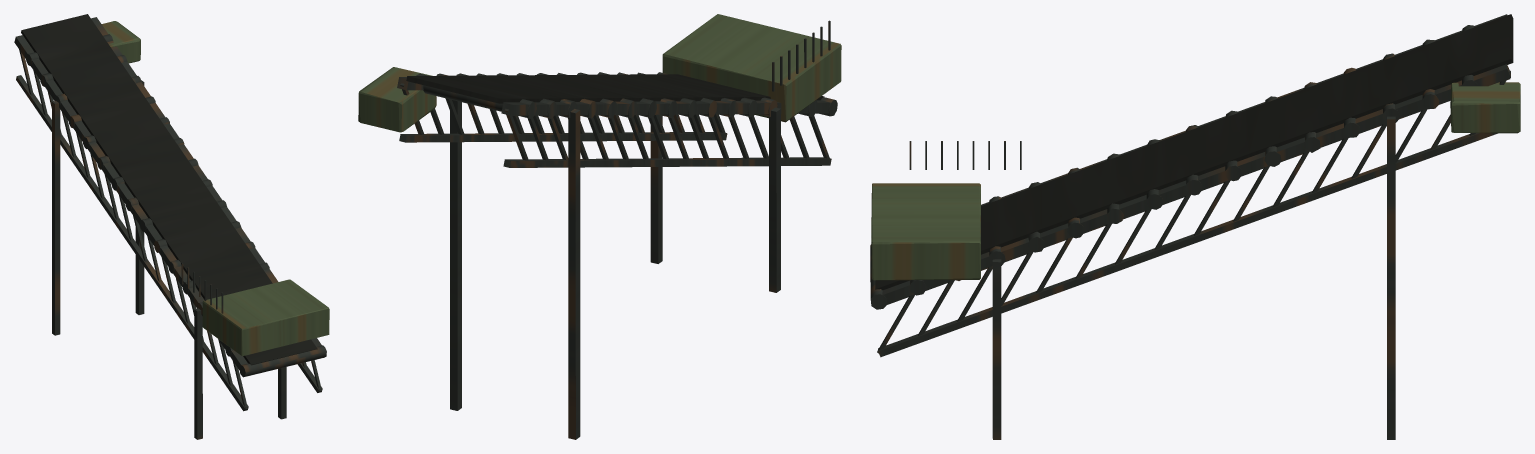
The model's file is quarry-conveyor-lod.obj.
The picture shows the model from 3 angles, left to right: view 1: azimuth 30°, elevation 25°; view 2: azimuth 150°, elevation 25°; view 3: azimuth 270°, elevation 25°; orthographic projection. The views are drawn at different scales.
Parts seen in each view (by area): view 1: quarry-conveyor.001; view 2: quarry-conveyor.001; view 3: quarry-conveyor.001.
Part boxes in pixels (x1=…): quarry-conveyor.001: x1=14, y1=14, x2=329, y2=439; quarry-conveyor.001: x1=358, y1=14, x2=841, y2=439; quarry-conveyor.001: x1=870, y1=14, x2=1520, y2=439.
Bounding box in the file's own units: 2.33 × 5.23 × 8.25.
Materials: 1 (1 with a texture image).
